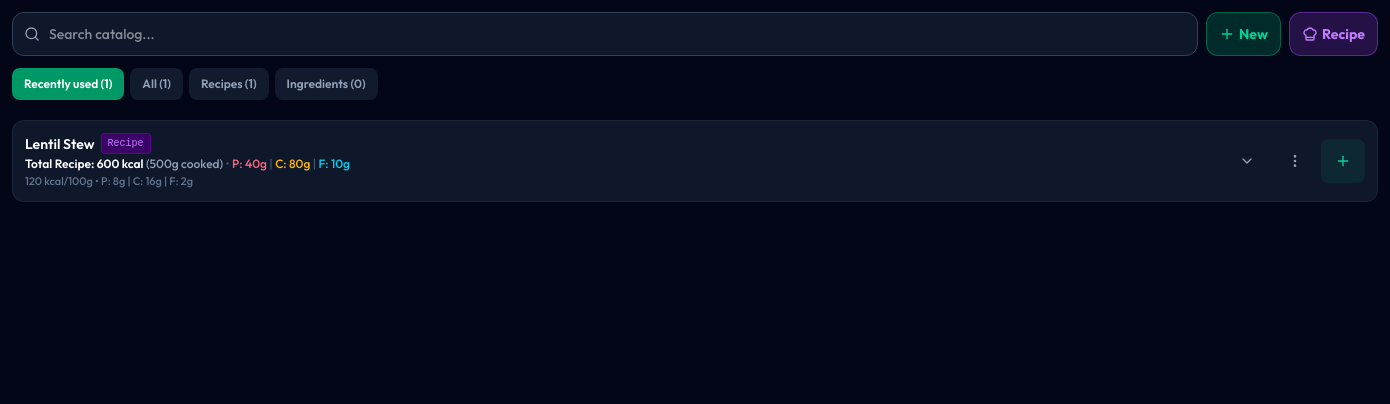
CatalogManager - Recipes Integration › renders custom recipes with badge and expands ingredients breakdown on chevron click
Expected: the text "Lentil Stew" is shown, [25, 134, 95, 154]
Expected: the 1st text "Recipe" is shown, [1322, 24, 1365, 44]
Note: Click expand chevron
Click the button named "Expand recipe ingredients": (1247,161) [1225, 139, 1269, 183]
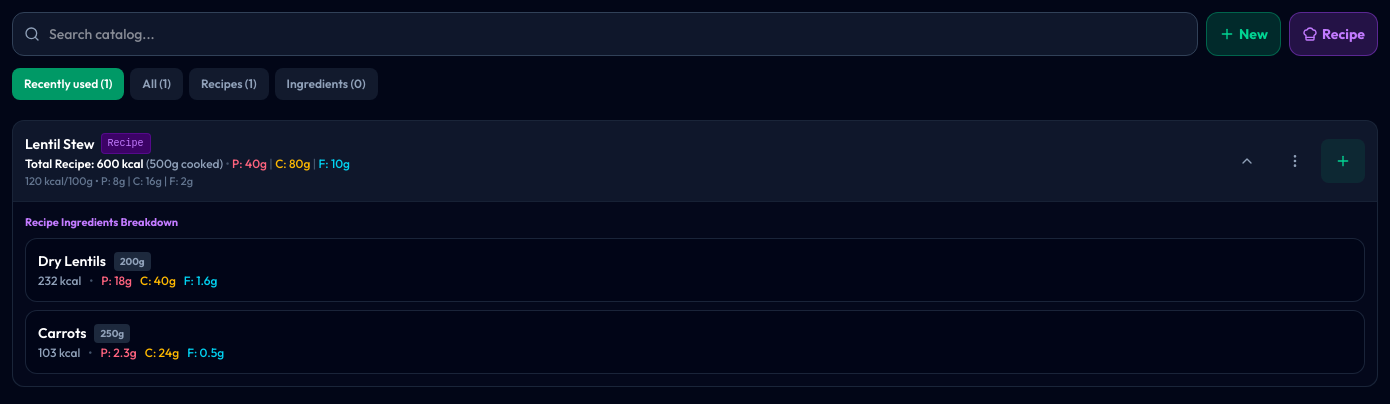
Now the text "Dry Lentils" is shown, box [38, 251, 106, 271]
Now the text "Carrots" is shown, box [38, 323, 86, 343]
